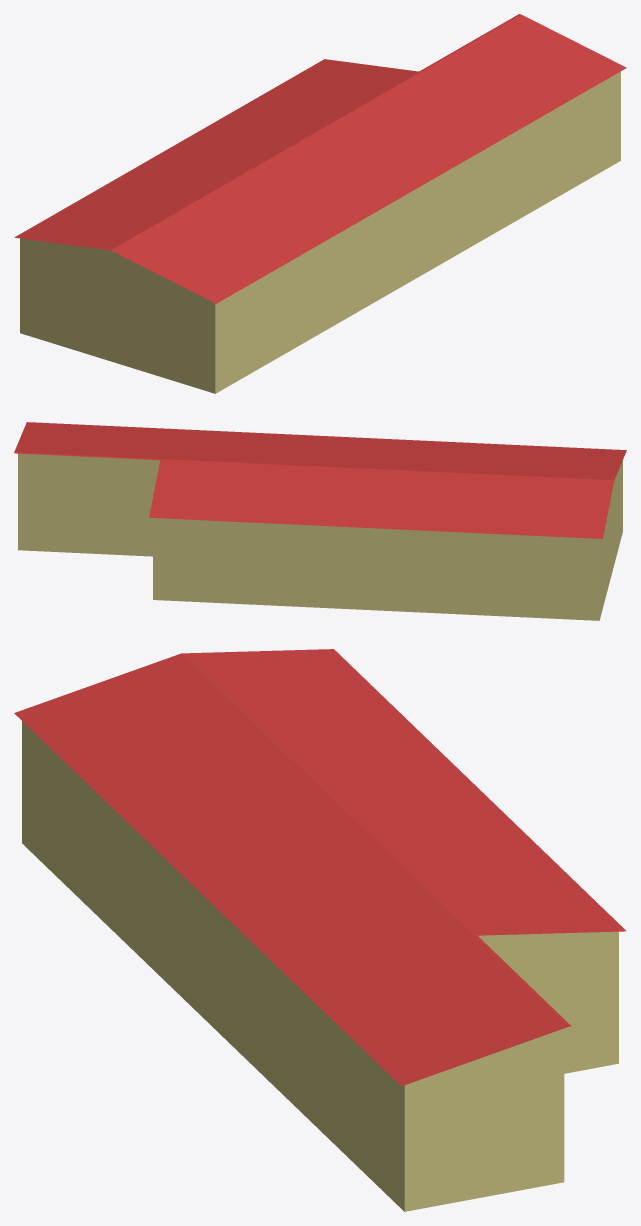
3 views of the same model, one above another, from view 1: azimuth 30°, elevation 25°; view 2: azimuth 150°, elevation 25°; view 3: azimuth 270°, elevation 25° (orthographic). The views are drawn at different scales.
Size of the model in its own units: 42.93 by 25.71 by 7.29.
